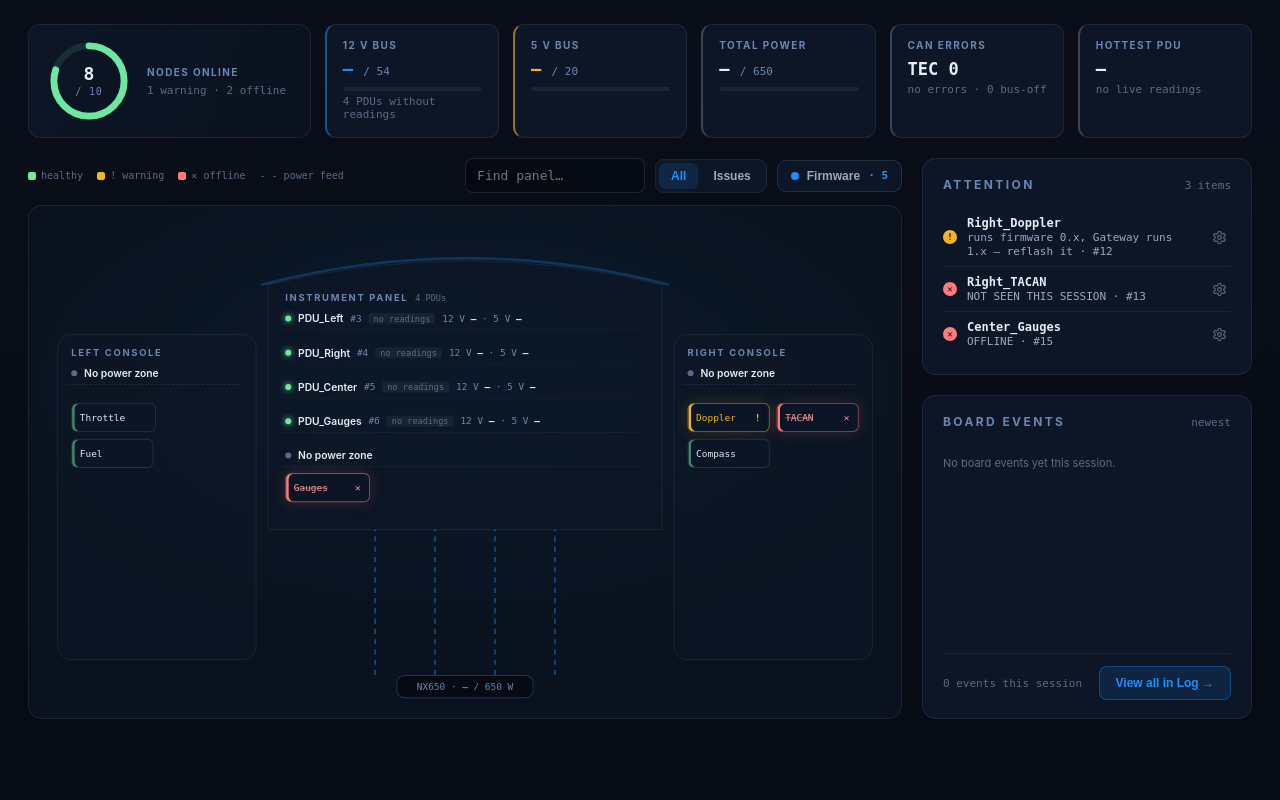
Scenario: T41 the Firmware button and sheet (#173) › Needs attention: the Gateway first, then the boards by NODE_ID, each with its chip
Click the button "Firmware · 5" at [839, 176], box [777,160,902,192]
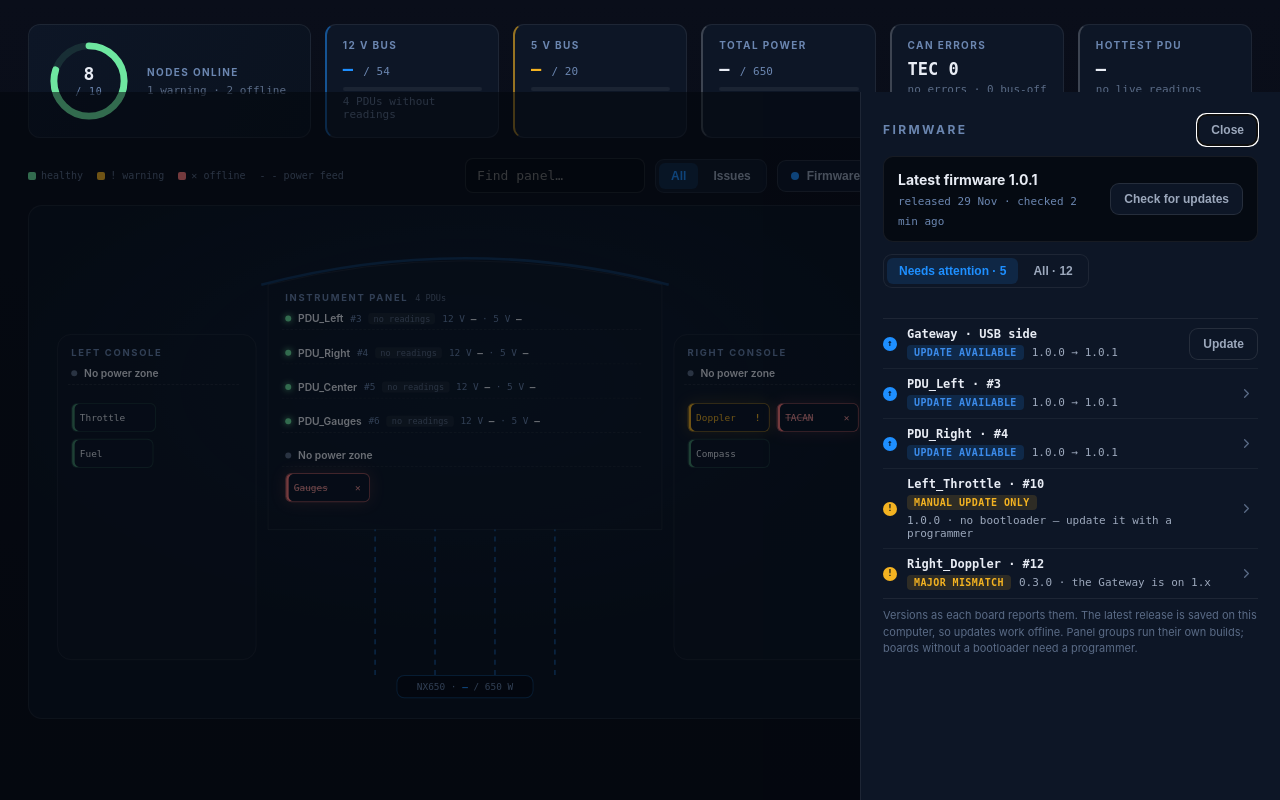
Expected: the text "Versions as each board reports them. The latest release is saved on this computer, so updates work offline. Panel groups" is shown, [883,608,1257,655]
Expected: the number of buttons "Update" is 1, [1189,328,1258,360]
